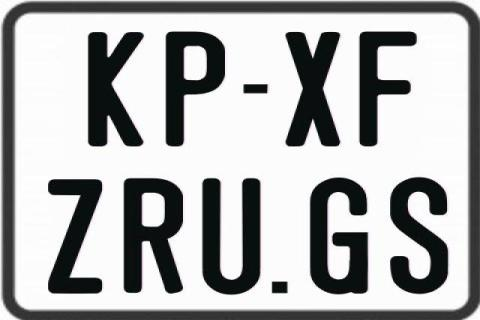F: (357, 29, 417, 147)
G: (308, 178, 372, 298)
K: (88, 30, 144, 144)
P: (164, 29, 226, 149)
R: (122, 177, 184, 292)
S: (389, 175, 449, 293)
U: (201, 177, 265, 297)
X: (285, 29, 344, 145)
Z: (48, 177, 106, 297)
